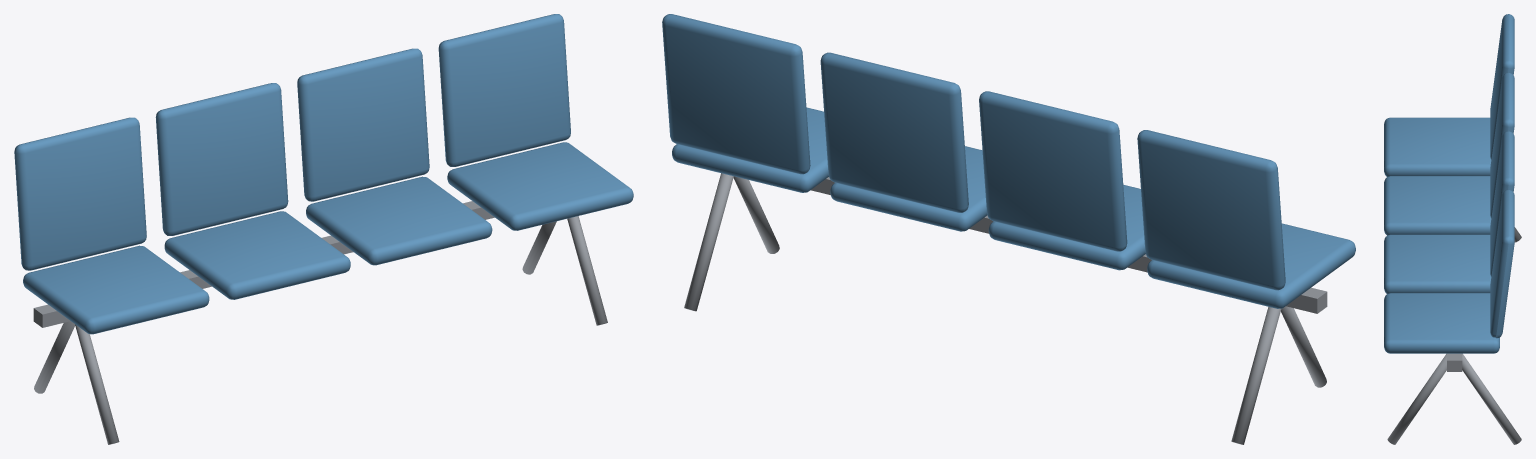
File: waiting_chairs.glb
3 views of the same model, side by side, from view 1: azimuth 30°, elevation 25°; view 2: azimuth 150°, elevation 25°; view 3: azimuth 270°, elevation 25° (orthographic). The views are drawn at different scales.
Visible parts, largest first — view 1: Cube.002, Cube.006, Cube.008, Cube.004, Cube.003, Cube.005, Cube.007, Cube.001, Cylinder, Cylinder.002, Cube, Cylinder.001 (+1 smaller); view 2: Cube.004, Cube.006, Cube.002, Cube.008, Cube.001, Cube.003, Cube.005, Cube.007, Cylinder.003, Cylinder.001, Cube, Cylinder (+1 smaller); view 3: Cube.007, Cube.003, Cube.001, Cube.005, Cube.008, Cube.004, Cube.002, Cube.006, Cylinder.003, Cylinder.002, Cube.
Boxes of the visible parts, x1,y1,x2,y2 form: Cube.002: [14, 117, 146, 270]; Cube.006: [297, 48, 429, 201]; Cube.008: [438, 14, 570, 166]; Cube.004: [155, 83, 288, 235]; Cube.003: [164, 211, 350, 299]; Cube.005: [306, 176, 492, 265]; Cube.007: [447, 142, 633, 230]; Cube.001: [23, 245, 209, 334]; Cylinder: [75, 324, 119, 444]; Cylinder.002: [567, 216, 607, 325]; Cube: [33, 201, 494, 327]; Cylinder.001: [34, 321, 75, 393]; Cube.004: [979, 91, 1127, 251]; Cube.006: [820, 52, 968, 212]; Cube.002: [1137, 130, 1285, 290]; Cube.008: [662, 14, 810, 174]; Cube.001: [1147, 223, 1355, 308]; Cube.003: [988, 184, 1145, 270]; Cube.005: [830, 146, 987, 231]; Cube.007: [672, 107, 828, 192]; Cylinder.003: [684, 173, 733, 311]; Cylinder.001: [1231, 307, 1281, 444]; Cube: [811, 177, 1327, 313]; Cylinder: [1281, 306, 1326, 387]; Cube.007: [1384, 293, 1499, 353]; Cube.003: [1384, 176, 1491, 235]; Cube.001: [1384, 117, 1491, 176]; Cube.005: [1384, 234, 1491, 293]; Cube.008: [1490, 189, 1514, 338]; Cube.004: [1490, 72, 1514, 217]; Cube.002: [1490, 14, 1514, 159]; Cube.006: [1490, 131, 1514, 276]; Cylinder.003: [1462, 353, 1521, 444]; Cylinder.002: [1387, 353, 1446, 444]; Cube: [1447, 353, 1462, 371].
Size of the model in its own units: 2.2 by 0.954 by 0.547.
